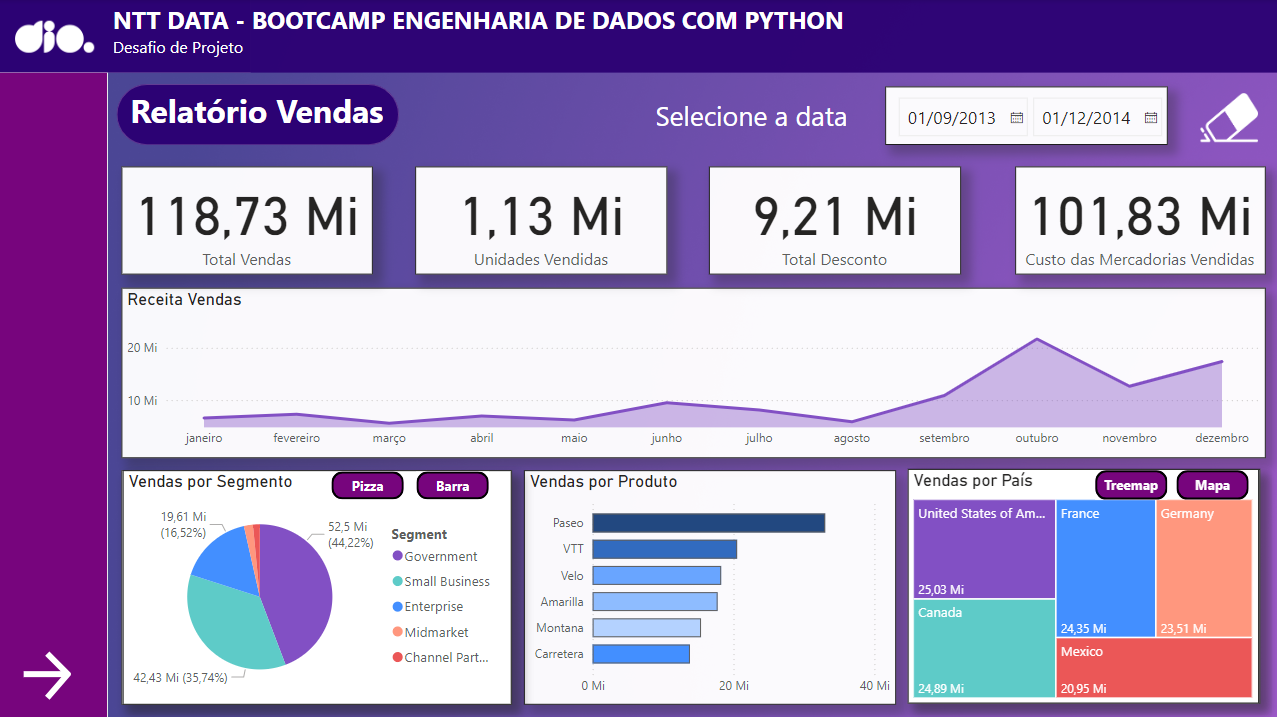

What the dashboard file says about the page in this screenshot:
{"tool":"powerbi","page":{"name":"Página 1","canvas":[1280,720],"ordinal":0},"visuals":[{"type":"shape","box":[0,0,108.8,720.2],"z":0},{"type":"image","title":"Borracha","box":[1194.7,85.6,70.9,67.3],"z":0,"group":"g1"},{"type":"card","fields":{"Values":["Sum(financials. Sales)"]},"box":[123,167,251,108],"z":0,"group":"g2"},{"type":"map","title":"Vendas por País","fields":{"Category":["financials.Country"],"Size":["Sum(financials. Sales)"]},"box":[909.3,470.3,351,234.8],"z":0,"group":"g4"},{"type":"clusteredBarChart","title":"Vendas por Segmento ","fields":{"Y":["Sum(financials. Sales)"],"Category":["financials.Segment"]},"box":[122.3,470.8,390.1,234.8],"z":0,"group":"g3"},{"type":"shape","title":"FORMA SALES REPORT","box":[117.4,85.6,282.5,61.1],"z":1000},{"type":"slicer","fields":{"Values":["financials.Date"]},"box":[885.3,88,282.5,58.7],"z":1000,"group":"g1"},{"type":"card","fields":{"Values":["Sum(financials.Units Sold)"]},"box":[417,167,252,108],"z":1000,"group":"g2"},{"type":"treemap","title":"Vendas por País","fields":{"Values":["Sum(financials. Sales)"],"Group":["financials.Country"]},"box":[908.1,470.3,351,234.8],"z":1000,"group":"g4"},{"type":"pieChart","title":"Vendas por Segmento ","fields":{"Category":["financials.Segment"],"Y":["Sum(financials. Sales)"]},"box":[123.5,470.8,388.9,234.8],"z":1000,"group":"g3"},{"type":"actionButton","title":"Pizza","box":[332.5,471.7,72.3,27.8],"z":1500,"group":"g3"},{"type":"actionButton","title":"Botão - treemap","box":[1095.7,471.7,72.1,29.3],"z":1500,"group":"g4"},{"type":"shape","box":[0,0,251.6,73.7],"z":2000},{"type":"textbox","box":[650.5,94.2,211.6,46.5],"z":2000,"group":"g1"},{"type":"card","fields":{"Values":["Sum(financials.Discounts)"]},"box":[711,167,252,108],"z":2000,"group":"g2"},{"type":"actionButton","title":"Barra","box":[417.4,471.7,72.3,27.8],"z":2000,"group":"g3"},{"type":"actionButton","title":"Botão - map","box":[1176.4,471.7,72.1,29.3],"z":2000,"group":"g4"},{"type":"textbox","box":[126,85.6,275.1,63.6],"z":3000},{"type":"actionButton","title":"Botão Borracha","box":[1194.7,86.8,70.9,64.8],"z":3000,"group":"g1"},{"type":"card","fields":{"Values":["Sum(financials.COGS)"]},"box":[1016,167,250,108],"z":3000,"group":"g2"},{"type":"image","box":[11,2.4,89.3,70.9],"z":4000},{"type":"textbox","box":[108.8,0,1171.2,73.8],"z":5000},{"type":"areaChart","title":"Receita Vendas","fields":{"Category":["financials.Date.Variation.Hierarquia de datas.Mês"],"Y":["Sum(financials. Sales)"]},"box":[122.5,288.8,1143.8,170],"z":6000},{"type":"clusteredBarChart","title":"Vendas por Produto","fields":{"Category":["financials.Product"],"Y":["Sum(financials. Sales)"]},"box":[524.6,470.8,371.7,234.8],"z":7000},{"type":"group","id":"g1","title":"Data","box":[650.5,85.6,615.1,67.3],"z":8000},{"type":"group","id":"g2","title":"Cartões","box":[123,167,1143,108],"z":9000},{"type":"group","id":"g3","title":"Vendas por Segmento","box":[122.3,470.8,390.1,234.8],"z":10000},{"type":"group","id":"g4","title":"Vendas por País","box":[908.1,470.3,352.2,234.8],"z":11000},{"type":"actionButton","title":"Seta","box":[18.1,647,82.1,58.4],"z":12000}]}

Visuals, with their boxes in screenshot pixels (x1, y1, x2, y2), scaled from the page's 1280x720 canvas onto the 1277x717 screenshot:
shape: x1=0 y1=0 x2=109 y2=716
"Borracha" image: x1=1192 y1=85 x2=1263 y2=152
card - Sum(financials. Sales): x1=123 y1=166 x2=373 y2=274
"Vendas por País" map: x1=907 y1=468 x2=1257 y2=702
"Vendas por Segmento " clusteredBarChart: x1=122 y1=469 x2=511 y2=703
"FORMA SALES REPORT" shape: x1=117 y1=85 x2=399 y2=146
slicer - financials.Date: x1=883 y1=88 x2=1165 y2=146
card - Sum(financials.Units Sold): x1=416 y1=166 x2=667 y2=274
"Vendas por País" treemap: x1=906 y1=468 x2=1256 y2=702
"Vendas por Segmento " pieChart: x1=123 y1=469 x2=511 y2=703
"Pizza" actionButton: x1=332 y1=470 x2=404 y2=497
"Botão - treemap" actionButton: x1=1093 y1=470 x2=1165 y2=499
shape: x1=0 y1=0 x2=251 y2=73
textbox: x1=649 y1=94 x2=860 y2=140
card - Sum(financials.Discounts): x1=709 y1=166 x2=961 y2=274
"Barra" actionButton: x1=416 y1=470 x2=489 y2=497
"Botão - map" actionButton: x1=1174 y1=470 x2=1246 y2=499
textbox: x1=126 y1=85 x2=400 y2=149
"Botão Borracha" actionButton: x1=1192 y1=86 x2=1263 y2=151
card - Sum(financials.COGS): x1=1014 y1=166 x2=1263 y2=274
image: x1=11 y1=2 x2=100 y2=73
textbox: x1=109 y1=0 x2=1276 y2=73
"Receita Vendas" areaChart: x1=122 y1=288 x2=1263 y2=457
"Vendas por Produto" clusteredBarChart: x1=523 y1=469 x2=894 y2=703
"Data" group: x1=649 y1=85 x2=1263 y2=152
"Cartões" group: x1=123 y1=166 x2=1263 y2=274
"Vendas por Segmento" group: x1=122 y1=469 x2=511 y2=703
"Vendas por País" group: x1=906 y1=468 x2=1257 y2=702
"Seta" actionButton: x1=18 y1=644 x2=100 y2=702
